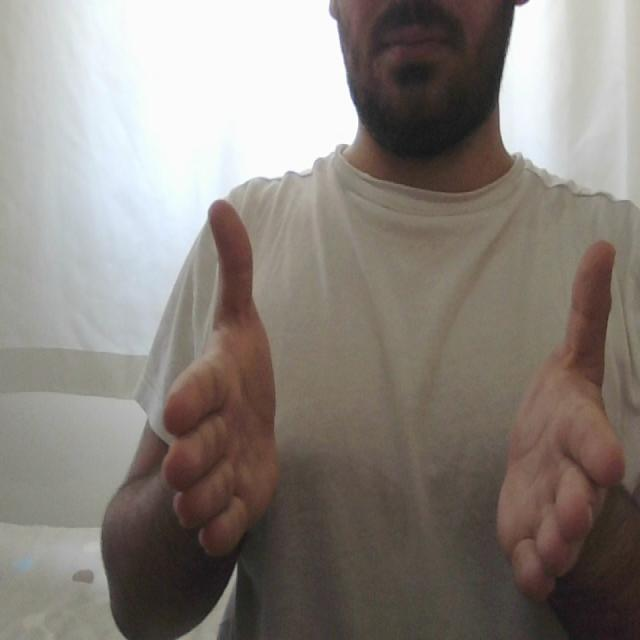Nasil: (151, 183, 627, 603)
